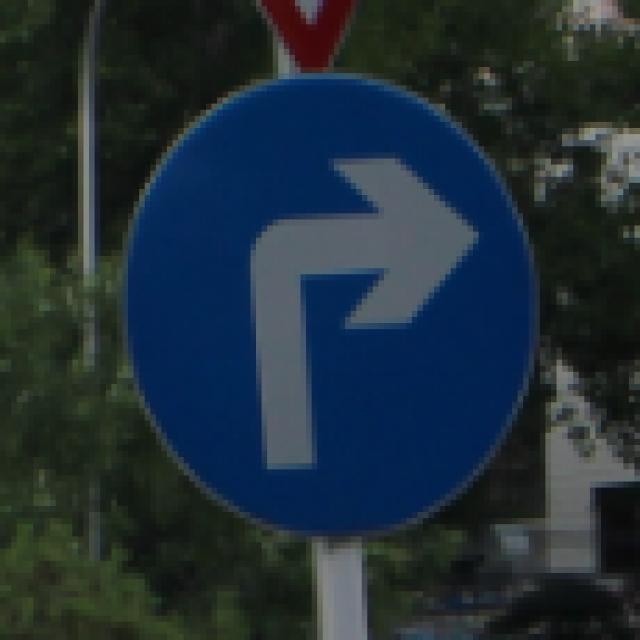Right: (114, 77, 543, 542)
